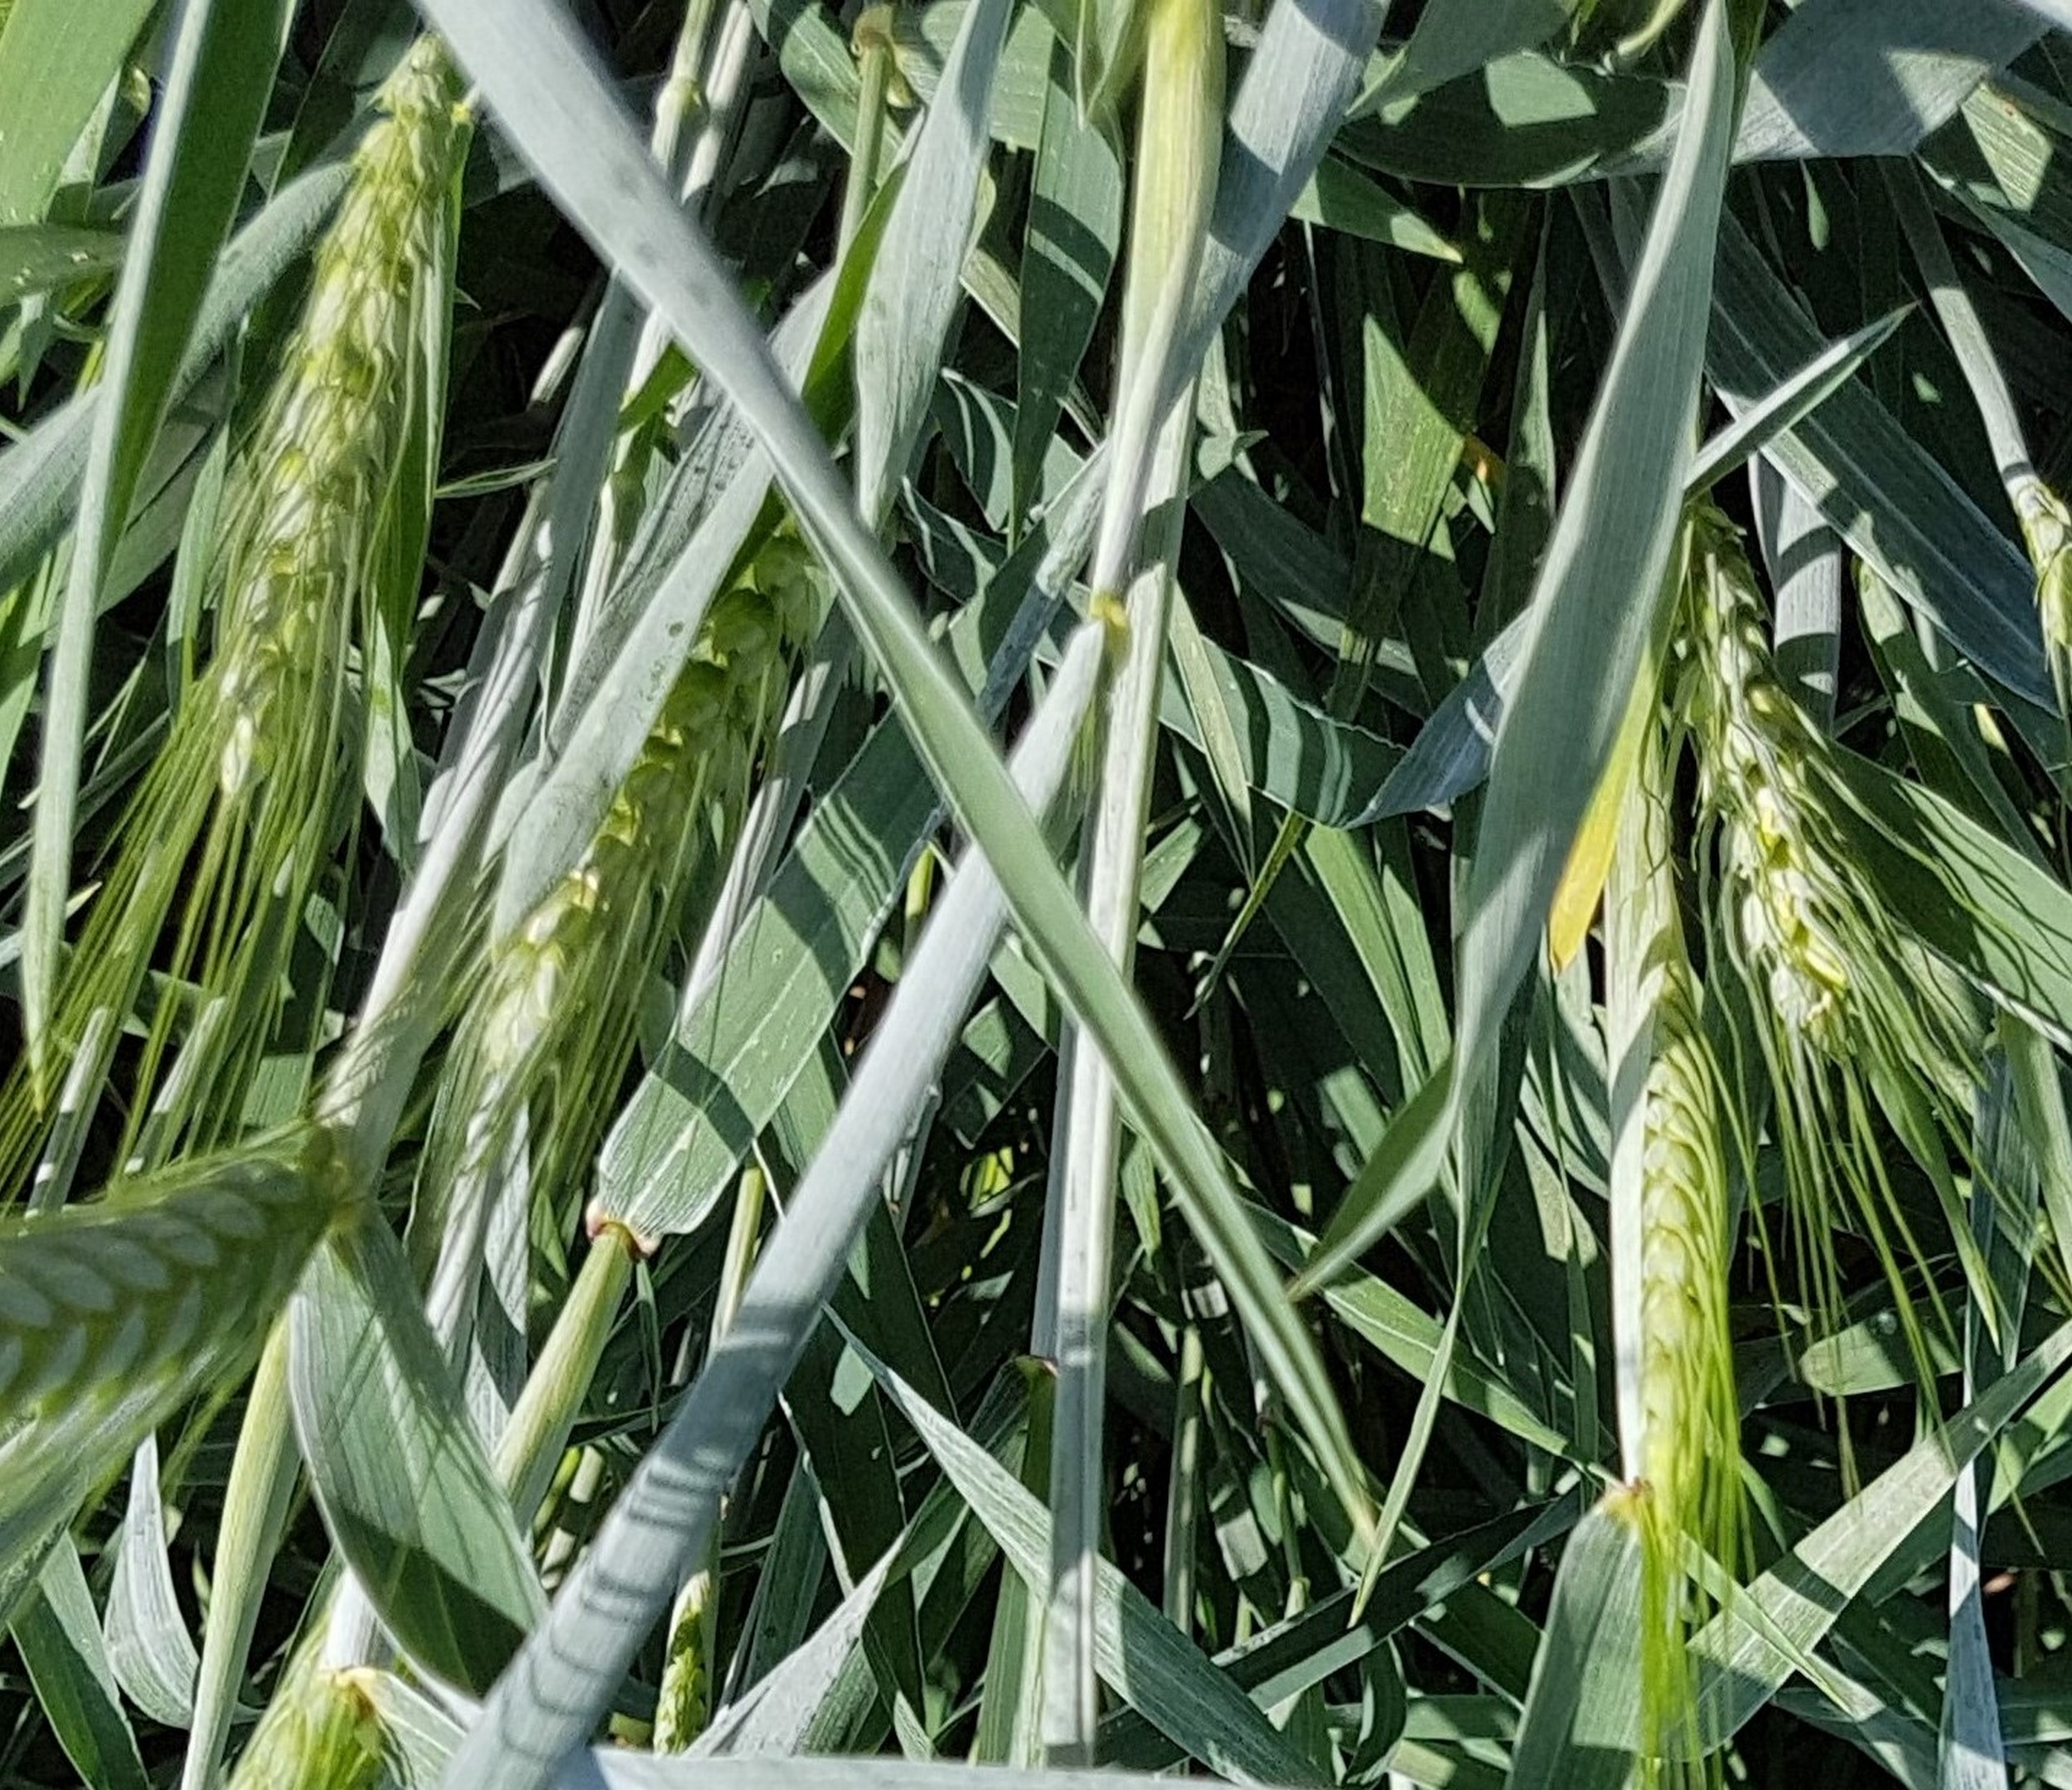Healthy Wheat: (176, 63, 479, 840), (1676, 500, 1959, 1115)
